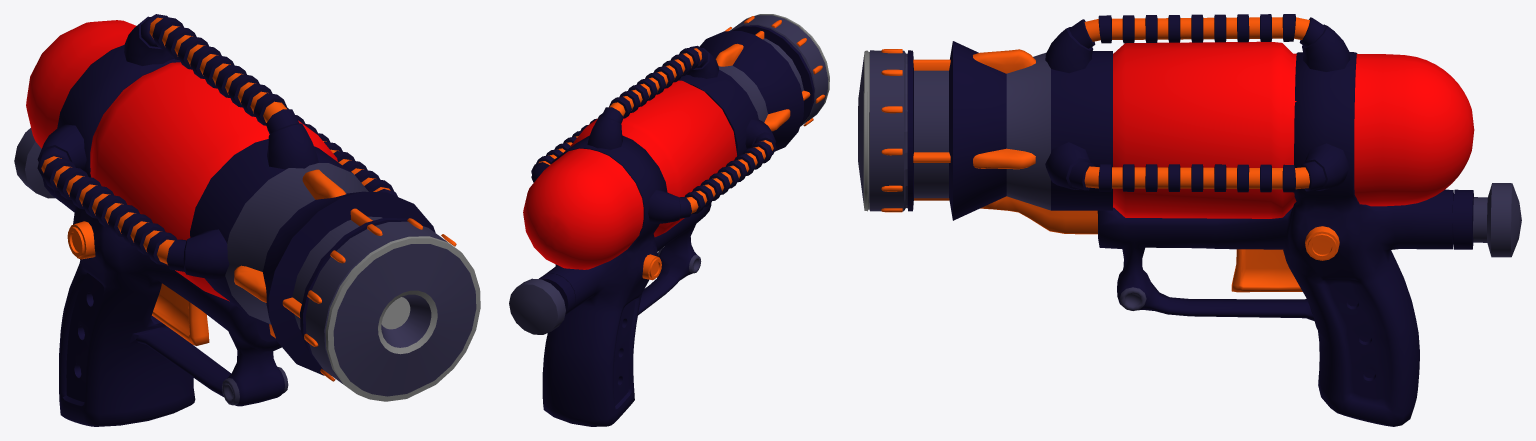
Rendered from shuiqiang.FBX.
3 views of the same model, side by side, from view 1: azimuth 30°, elevation 25°; view 2: azimuth 150°, elevation 25°; view 3: azimuth 270°, elevation 25° (orthographic). The views are drawn at different scales.
Parts seen in each view (by area): view 1: Object001, Object003, Object004, Object002, Object005; view 2: Object001, Object003, Object004, Object005; view 3: Object001, Object004, Object005, Object002.
Boxes of the visible parts, bbox=[...] form: Object001: bbox=[14, 20, 480, 426]; Object003: bbox=[37, 124, 229, 278]; Object004: bbox=[124, 14, 318, 169]; Object002: bbox=[152, 283, 209, 345]; Object005: bbox=[287, 108, 397, 196]; Object001: bbox=[509, 14, 829, 426]; Object003: bbox=[648, 119, 776, 223]; Object004: bbox=[587, 45, 718, 149]; Object005: bbox=[531, 113, 602, 182]; Object001: bbox=[858, 41, 1521, 426]; Object004: bbox=[1045, 14, 1350, 73]; Object005: bbox=[1045, 142, 1349, 192]; Object002: bbox=[1231, 249, 1302, 292].
Bounding box in the file's own units: 36.8 × 62.31 × 95.
